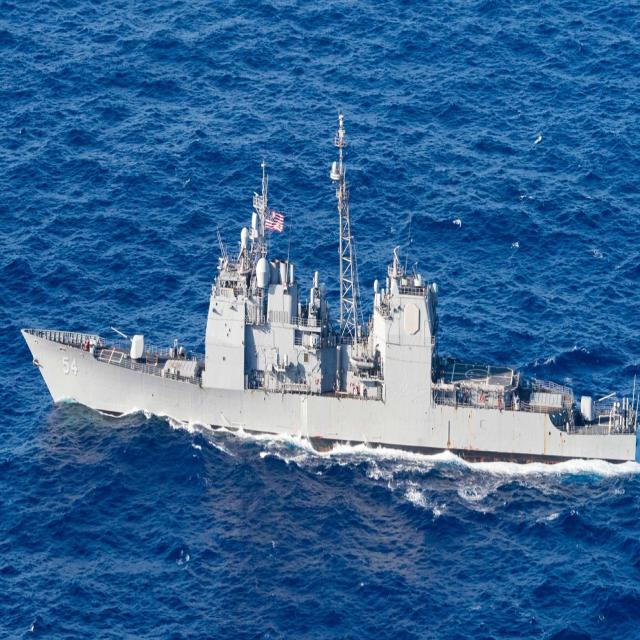navalvessels: (17, 115, 640, 473)
